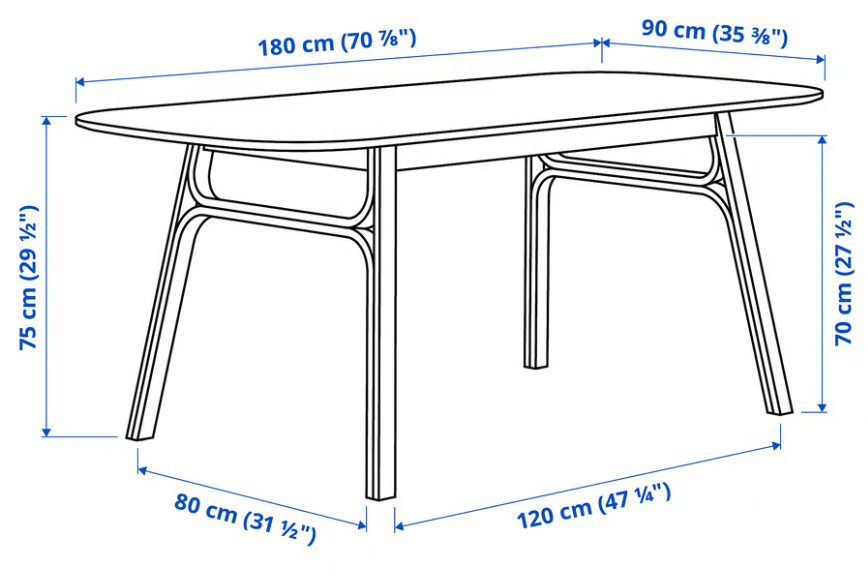table_legs: (126, 145, 396, 501), (524, 112, 793, 415)
table_support: (396, 113, 717, 171), (203, 146, 367, 170)
table_top: (76, 72, 824, 151)
